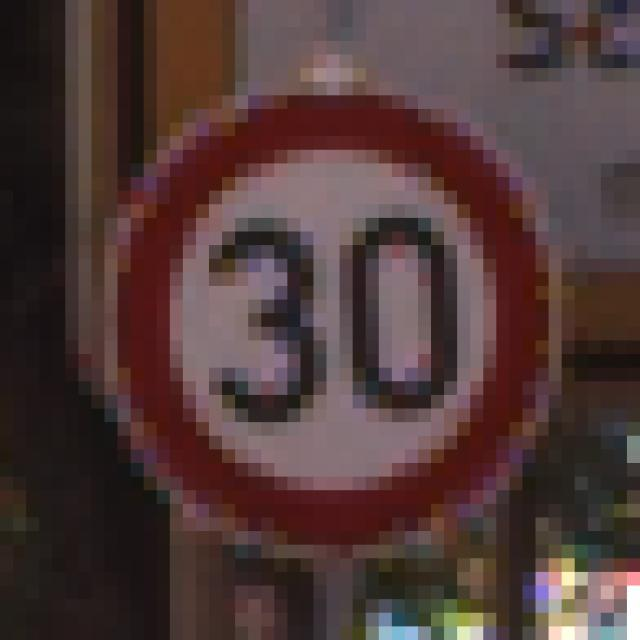Speed Limit -30-: (58, 61, 556, 565)
